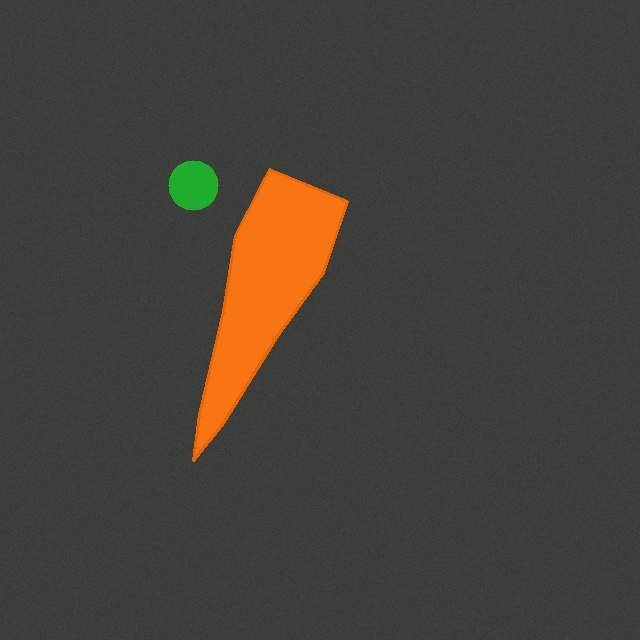Good_Carrot: (185, 161, 355, 468)
